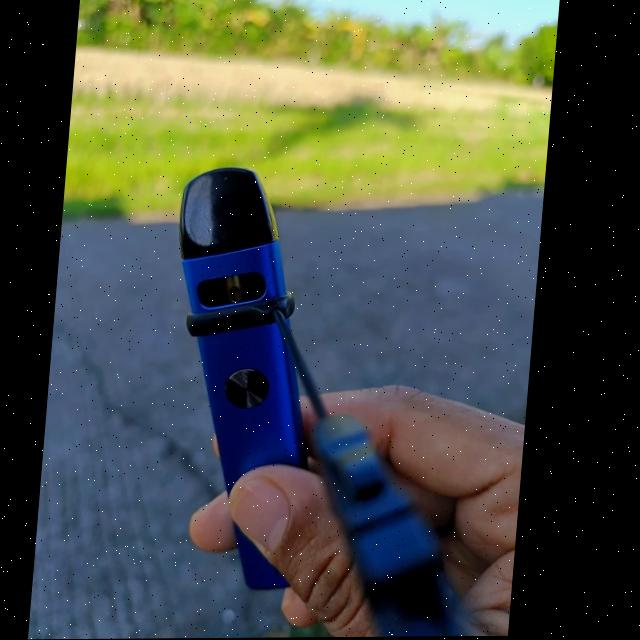vape: (158, 168, 349, 589)
